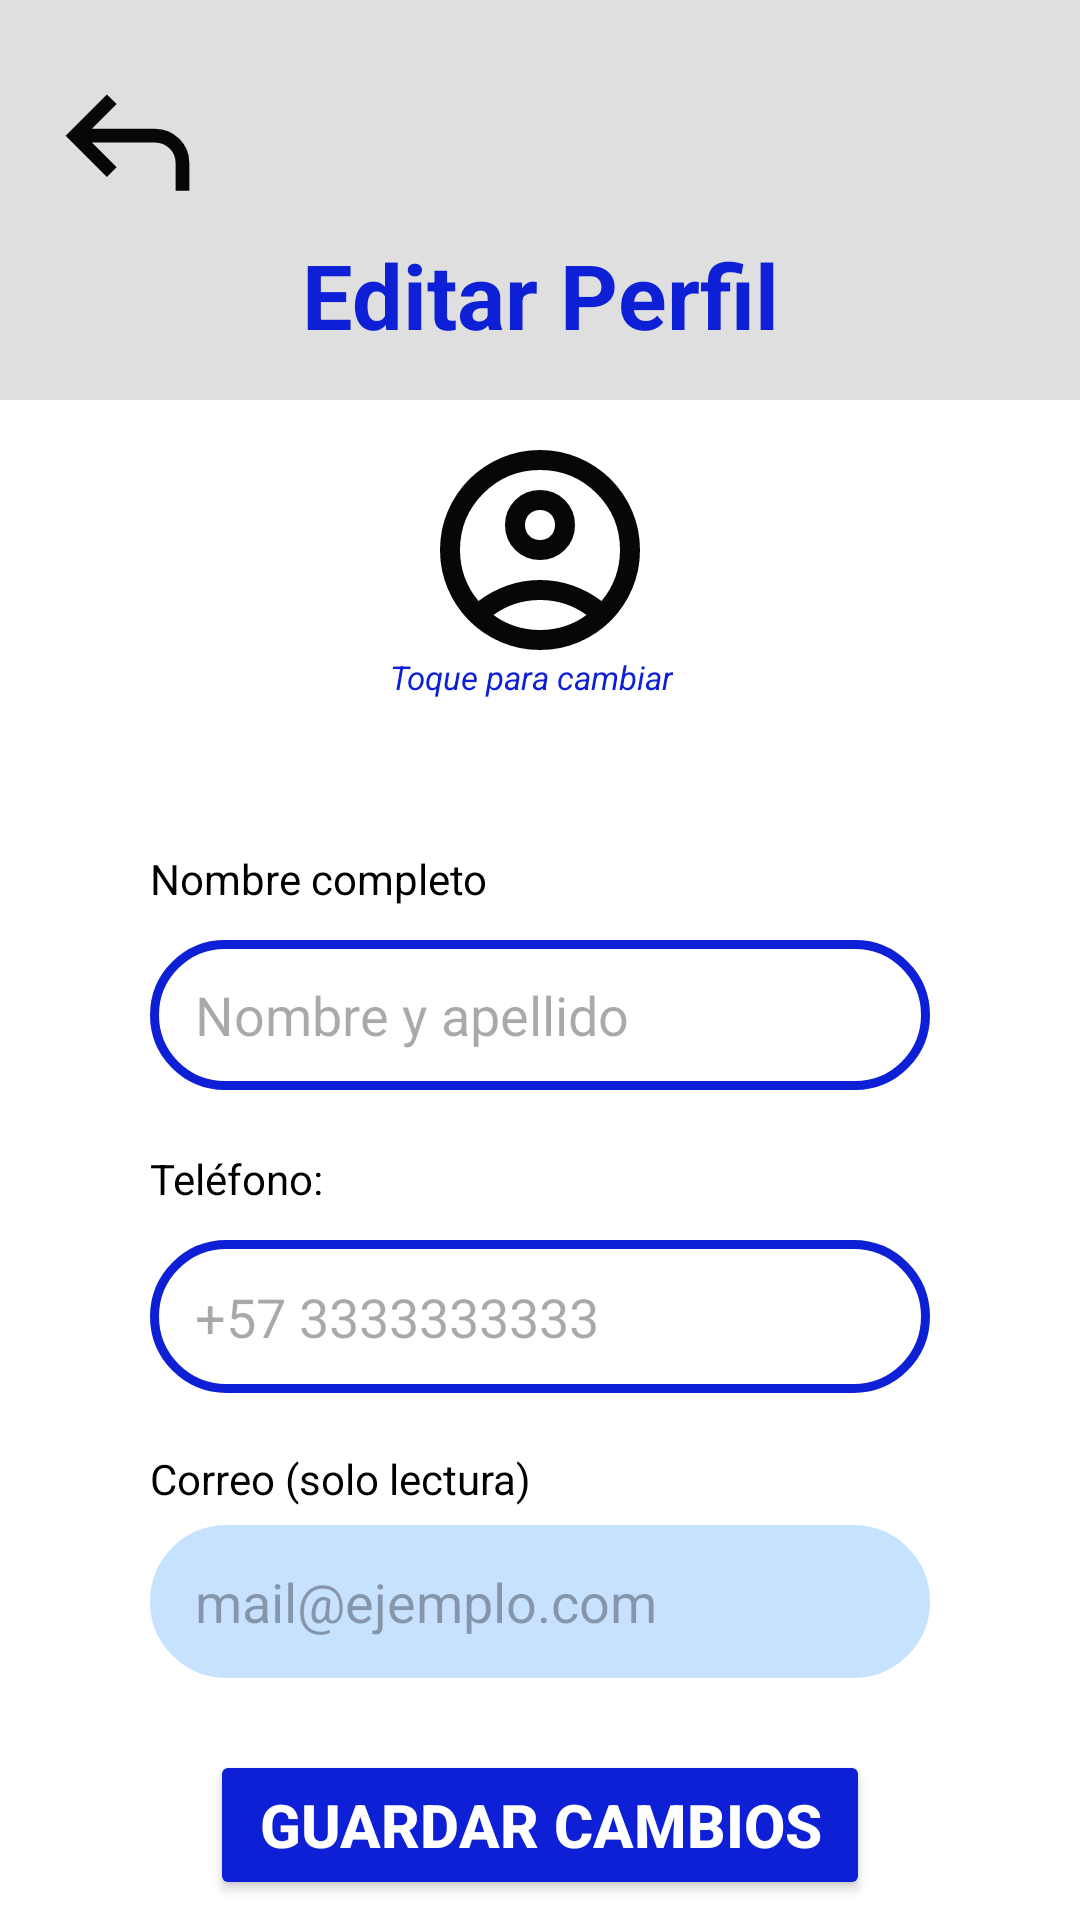

Icon bounding boxes for this 1080x1920 phone screenshot, format (x1, y1, x2, y2):
regresar: (65, 94, 190, 191)
